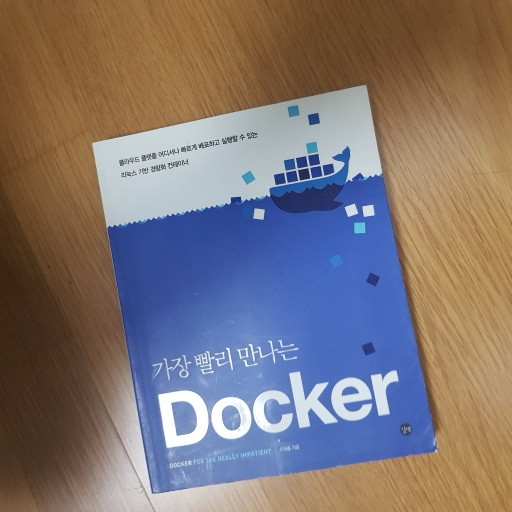Paper_0: (86, 82, 444, 493)
